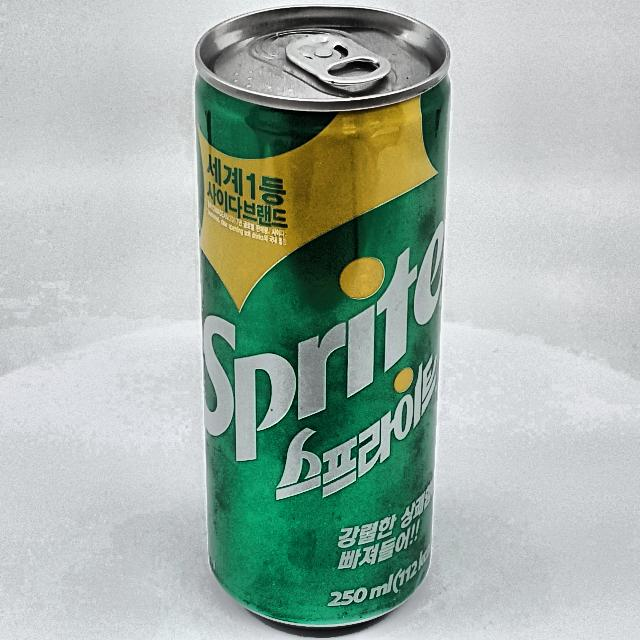sprite: (195, 5, 450, 628)
